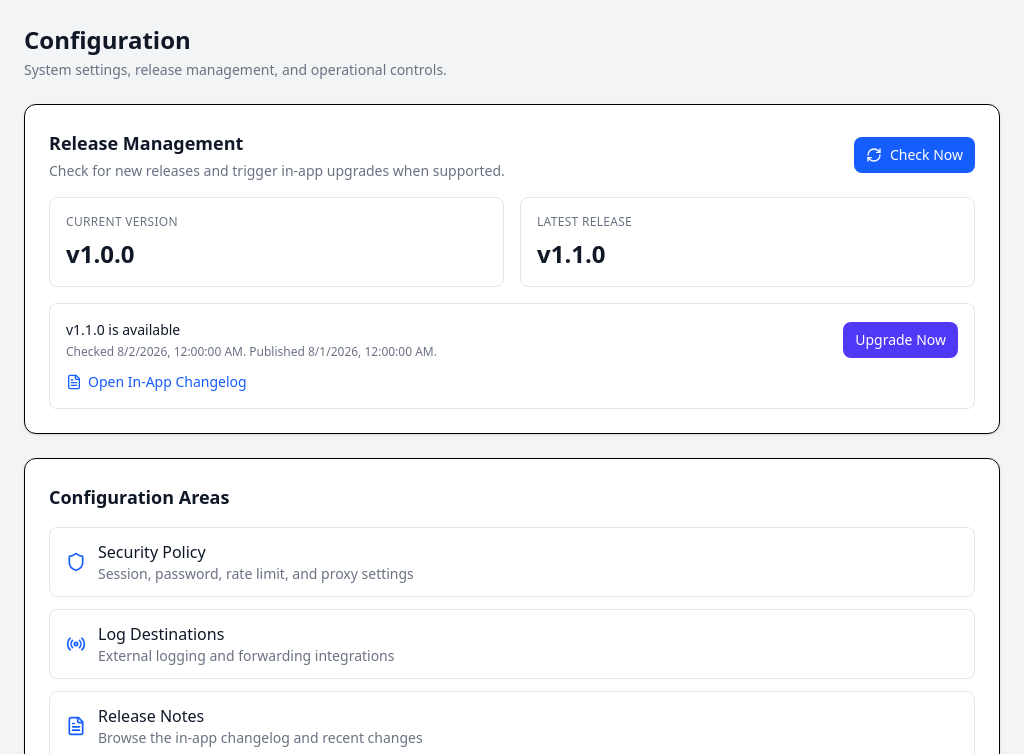
Scenario: ConfigurationPage upgrade polling › treats a transient failure as the server restarting and keeps polling
Click the button "Upgrade Now".
click(901, 340)  # box [843,322,958,358]
Wait 10000 ms
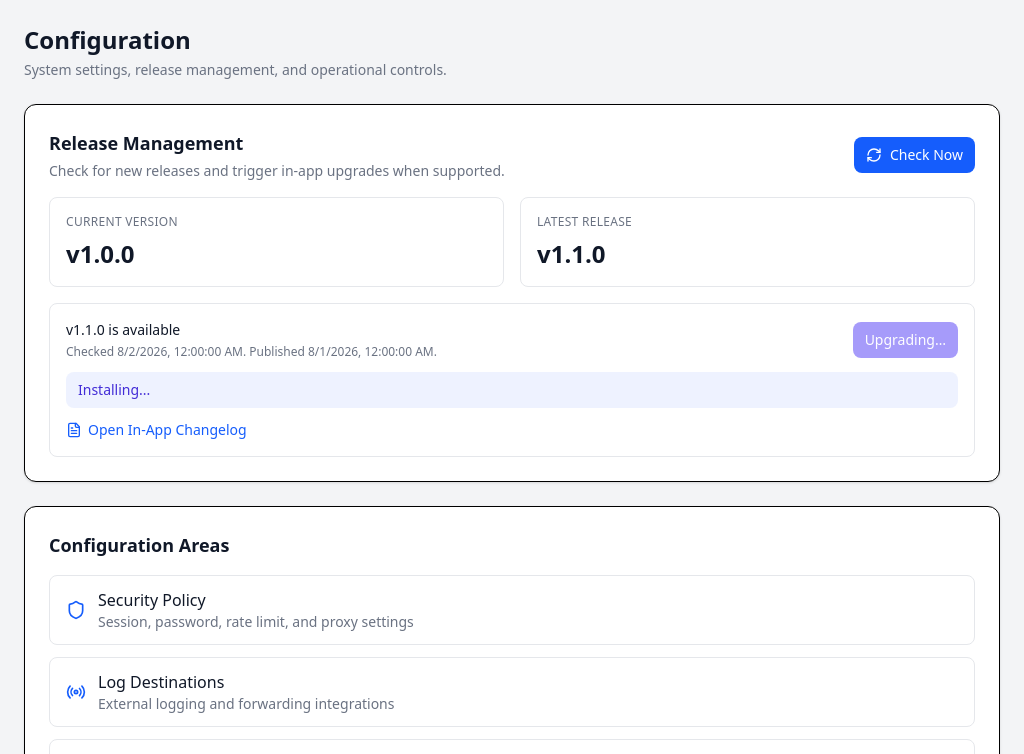
Expected: the text "Installing..." is shown, [66,372,958,408]
Expected: the button "Upgrading…" is disabled, [853,322,958,358]
